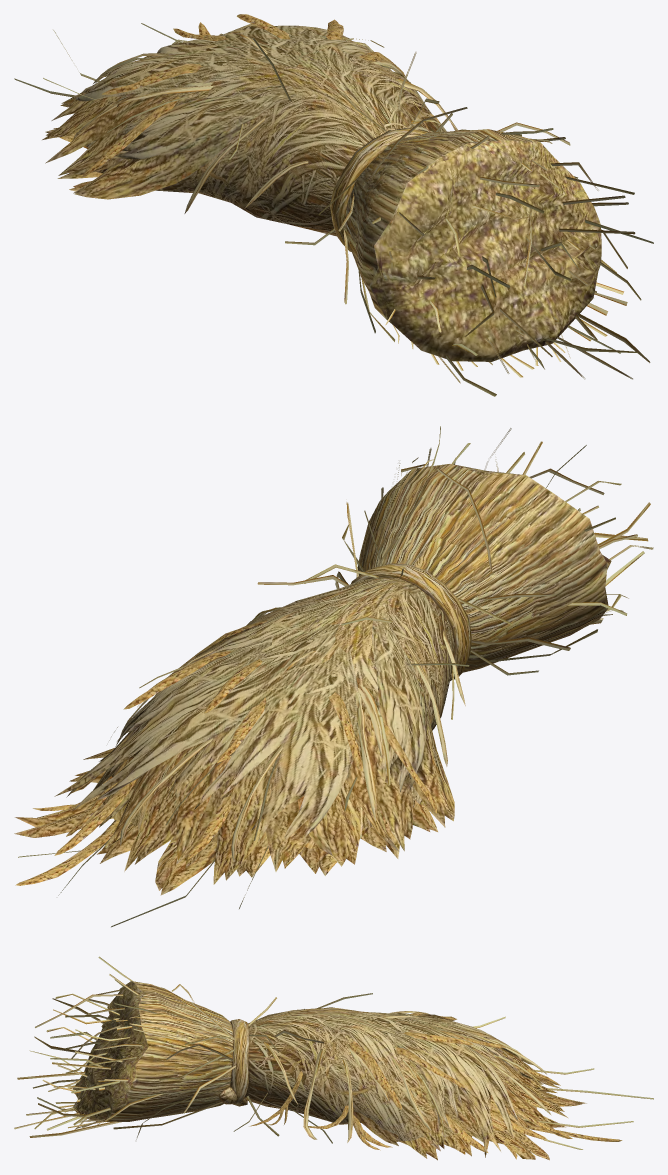
The model's file is sheaf.glb.
The picture shows the model from 3 angles, top to bottom: view 1: azimuth 30°, elevation 25°; view 2: azimuth 150°, elevation 25°; view 3: azimuth 270°, elevation 25°; orthographic projection. The views are drawn at different scales.
Parts seen in each view (by area): view 1: Sheaf.001_M_Sheaf_0.104, Sheaf.001_M_Sheaf_0.001, Sheaf.001_M_Sheaf_0.059, Sheaf.001_M_Sheaf_0.103, Sheaf.001_M_Sheaf_0.045, Sheaf.001_M_Sheaf_0.046, Sheaf.001_M_Sheaf_0.058, Sheaf.001_M_Sheaf_0.100, Sheaf.001_M_Sheaf_0.034, Sheaf.001_M_Sheaf_0.077, Sheaf.001_M_Sheaf_0.061; view 2: Sheaf.001_M_Sheaf_0.103, Sheaf.001_M_Sheaf_0.059, Sheaf.001_M_Sheaf_0.001, Sheaf.001_M_Sheaf_0.033, Sheaf.001_M_Sheaf_0.045, Sheaf.001_M_Sheaf_0.072, Sheaf.001_M_Sheaf_0.058, Sheaf.001_M_Sheaf_0.100, Sheaf.001_M_Sheaf_0.034, Sheaf.001_M_Sheaf_0.046, Sheaf.001_M_Sheaf_0.027, Sheaf.001_M_Sheaf_0.097 (+8 smaller); view 3: Sheaf.001_M_Sheaf_0.001, Sheaf.001_M_Sheaf_0.103, Sheaf.001_M_Sheaf_0.059, Sheaf.001_M_Sheaf_0.104, Sheaf.001_M_Sheaf_0.100, Sheaf.001_M_Sheaf_0.072, Sheaf.001_M_Sheaf_0.033, Sheaf.001_M_Sheaf_0.048, Sheaf.001_M_Sheaf_0.047, Sheaf.001_M_Sheaf_0.071, Sheaf.001_M_Sheaf_0.029, Sheaf.001_M_Sheaf_0.036 (+10 smaller).
Boxes of the visible parts, x1,y1,x2,y2 form: Sheaf.001_M_Sheaf_0.104: (369, 140, 601, 361); Sheaf.001_M_Sheaf_0.001: (73, 39, 443, 231); Sheaf.001_M_Sheaf_0.059: (74, 23, 327, 101); Sheaf.001_M_Sheaf_0.103: (343, 129, 539, 318); Sheaf.001_M_Sheaf_0.045: (113, 85, 296, 158); Sheaf.001_M_Sheaf_0.046: (73, 125, 241, 199); Sheaf.001_M_Sheaf_0.058: (45, 89, 210, 175); Sheaf.001_M_Sheaf_0.100: (330, 128, 427, 251); Sheaf.001_M_Sheaf_0.034: (42, 96, 123, 139); Sheaf.001_M_Sheaf_0.077: (81, 95, 179, 178); Sheaf.001_M_Sheaf_0.061: (101, 63, 202, 94); Sheaf.001_M_Sheaf_0.103: (356, 464, 607, 672); Sheaf.001_M_Sheaf_0.059: (54, 624, 358, 844); Sheaf.001_M_Sheaf_0.001: (103, 577, 455, 848); Sheaf.001_M_Sheaf_0.033: (124, 738, 311, 884); Sheaf.001_M_Sheaf_0.045: (372, 617, 425, 792); Sheaf.001_M_Sheaf_0.072: (69, 748, 437, 895); Sheaf.001_M_Sheaf_0.058: (346, 687, 412, 851); Sheaf.001_M_Sheaf_0.100: (351, 563, 471, 679); Sheaf.001_M_Sheaf_0.034: (327, 779, 360, 866); Sheaf.001_M_Sheaf_0.046: (413, 693, 454, 827); Sheaf.001_M_Sheaf_0.027: (176, 755, 231, 859); Sheaf.001_M_Sheaf_0.097: (15, 820, 119, 885); Sheaf.001_M_Sheaf_0.001: (245, 1008, 536, 1141); Sheaf.001_M_Sheaf_0.103: (102, 981, 233, 1121); Sheaf.001_M_Sheaf_0.059: (347, 1012, 522, 1157); Sheaf.001_M_Sheaf_0.104: (73, 981, 148, 1121); Sheaf.001_M_Sheaf_0.100: (230, 1019, 248, 1103); Sheaf.001_M_Sheaf_0.072: (399, 1078, 586, 1160); Sheaf.001_M_Sheaf_0.033: (487, 1040, 568, 1118); Sheaf.001_M_Sheaf_0.048: (444, 1078, 483, 1142); Sheaf.001_M_Sheaf_0.047: (397, 1045, 444, 1151); Sheaf.001_M_Sheaf_0.071: (348, 1041, 401, 1109); Sheaf.001_M_Sheaf_0.029: (501, 1080, 558, 1123); Sheaf.001_M_Sheaf_0.036: (353, 1111, 399, 1145).
Size of the model in its own units: 0.7955 by 0.4547 by 1.89.
Materials: 1 (1 with a texture image).
